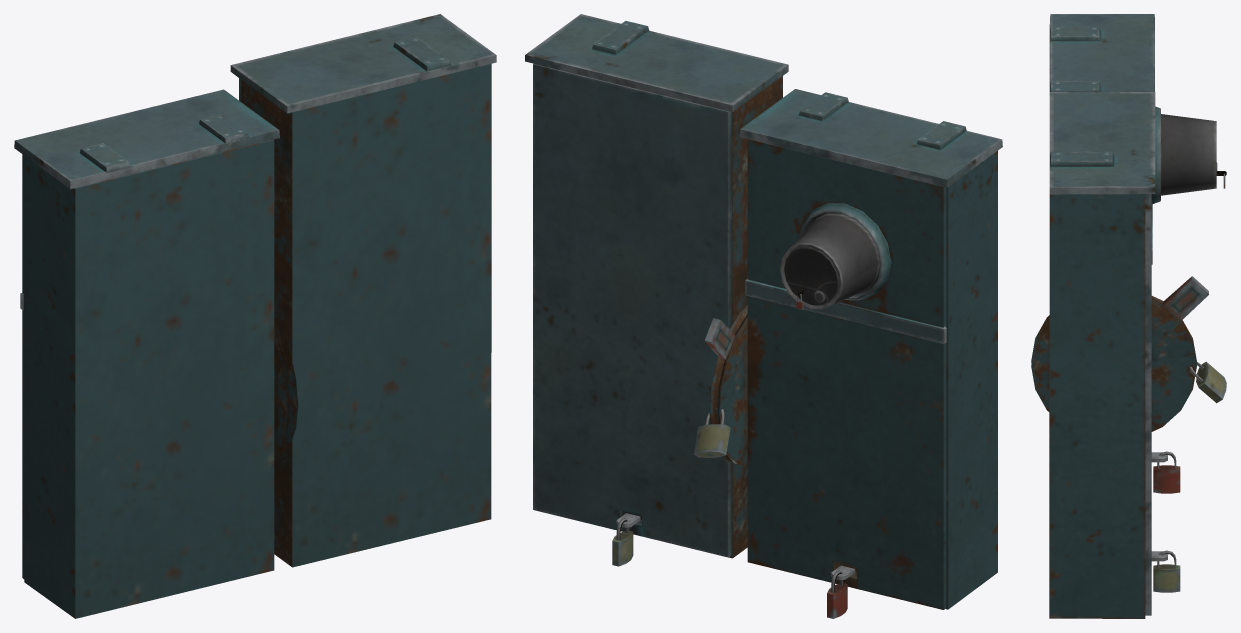
The model's file is Electrical_Box_B.fbx.
The picture shows the model from 3 angles, left to right: view 1: azimuth 30°, elevation 25°; view 2: azimuth 150°, elevation 25°; view 3: azimuth 270°, elevation 25°; orthographic projection. The views are drawn at different scales.
Parts seen in each view (by area): view 1: Electrical_Box_B_LOD0; view 2: Electrical_Box_B_LOD0; view 3: Electrical_Box_B_LOD0.
Boxes of the visible parts, x1,y1,x2,y2 form: Electrical_Box_B_LOD0: (14,14,496,618); Electrical_Box_B_LOD0: (525,14,1002,618); Electrical_Box_B_LOD0: (1031,14,1226,618).
Size of what is drawn, in the model's own units: 79.57 by 86.62 by 33.77.
